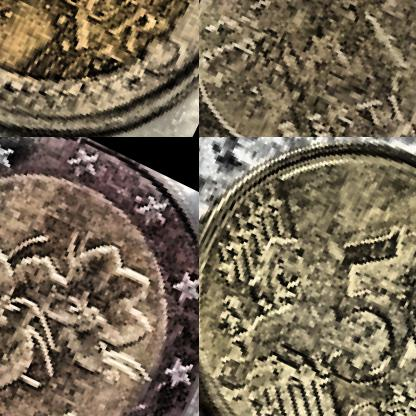coin: (199, 137, 415, 415), (0, 137, 198, 415), (199, 0, 415, 136), (0, 0, 198, 136)
